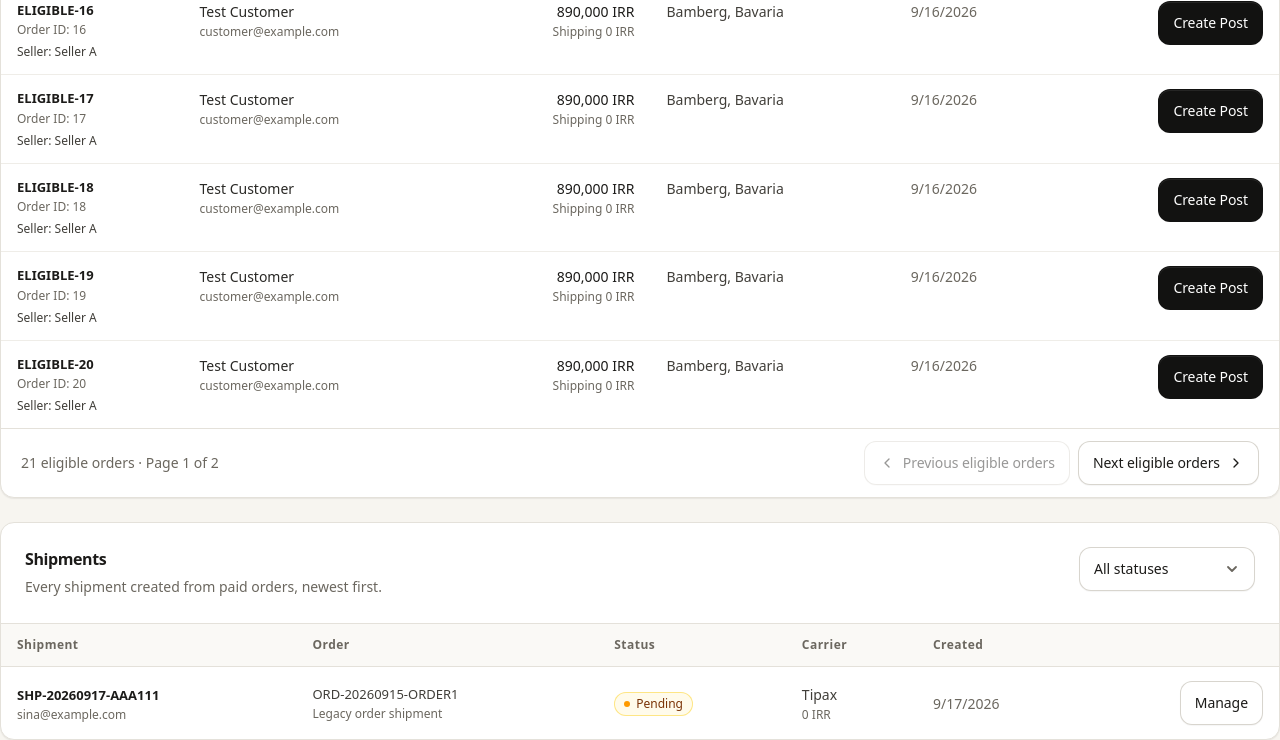
Test: AdminShipmentsList › retries a failed later eligible page while keeping existing shipments usable
(page scrolled)
Click the button "Next eligible orders" at (1168, 463), box 1078,441 -> 1259,485
(page scrolled)
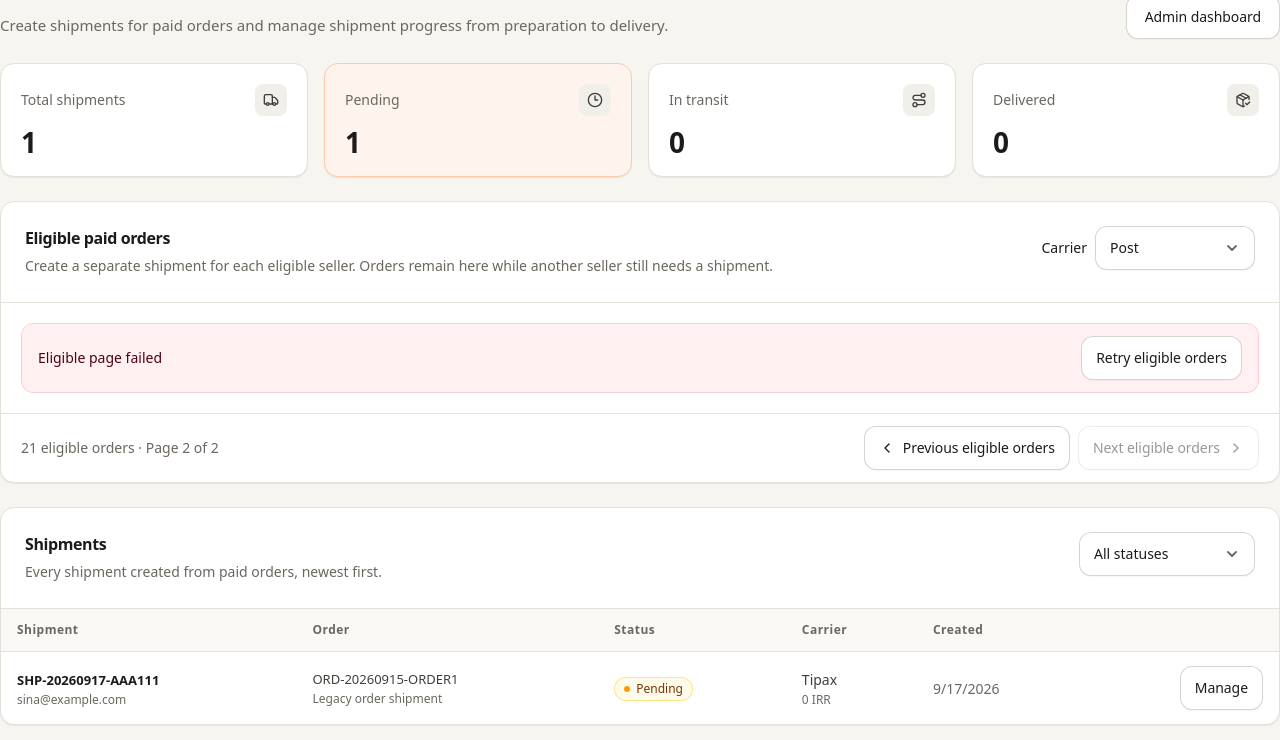
Expected: the link "SHP-20260917-AAA111" is shown, 17,671 -> 159,689
Now the text "Eligible page failed" is shown, box 38,348 -> 162,368
Click the button "Retry eligible orders" at (1162, 358), box 1081,336 -> 1242,380
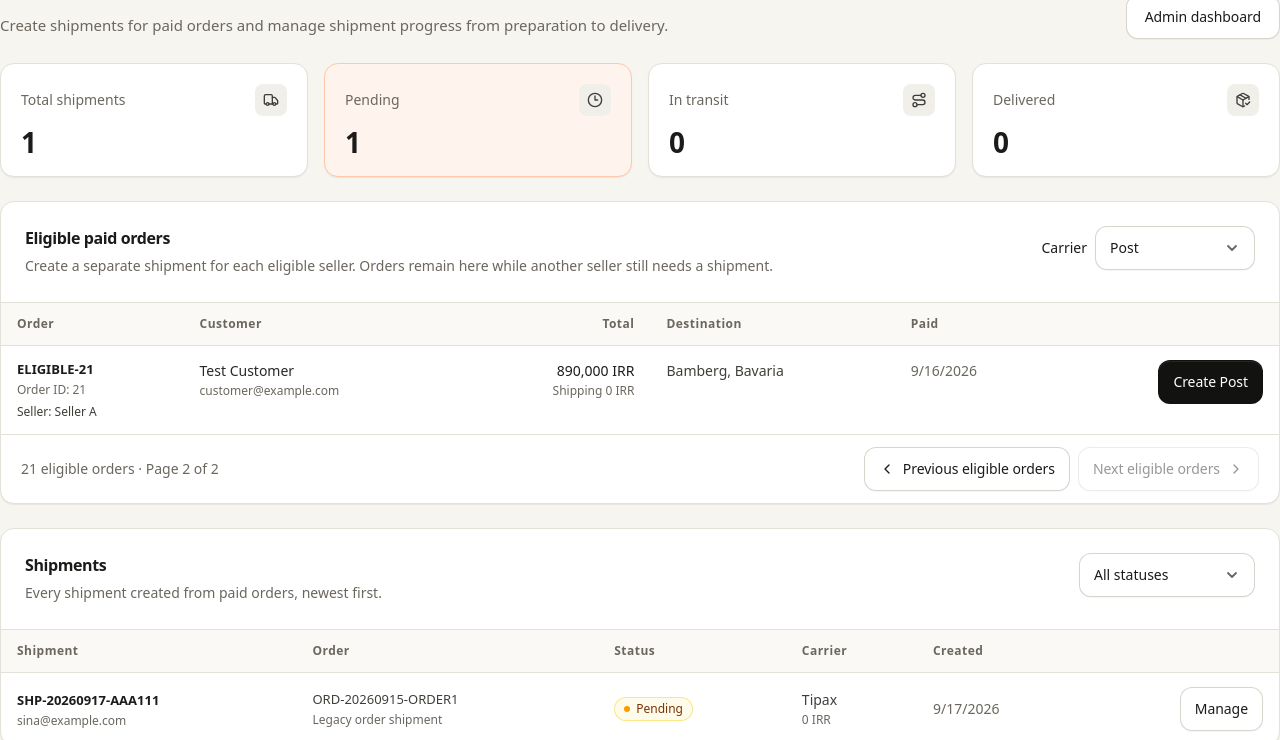
Now the text "ELIGIBLE-21" is shown, box 17,360 -> 94,378
